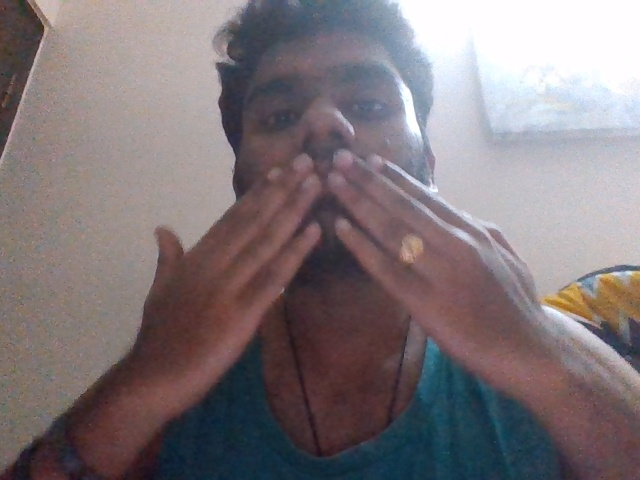thank you: (116, 149, 566, 418)
